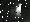person: (12, 4, 21, 18)
